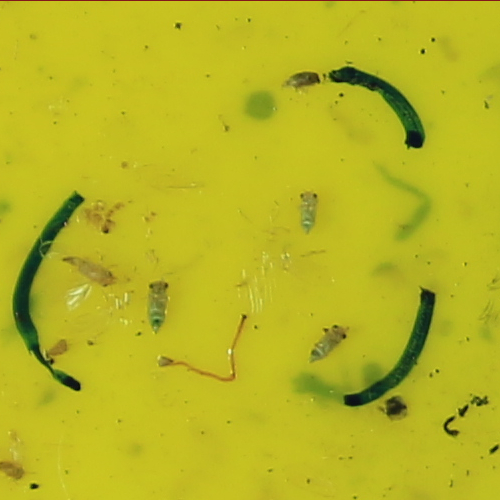Glycaspis: (136, 275, 172, 338), (61, 253, 123, 289), (308, 323, 356, 362), (294, 189, 322, 238)
